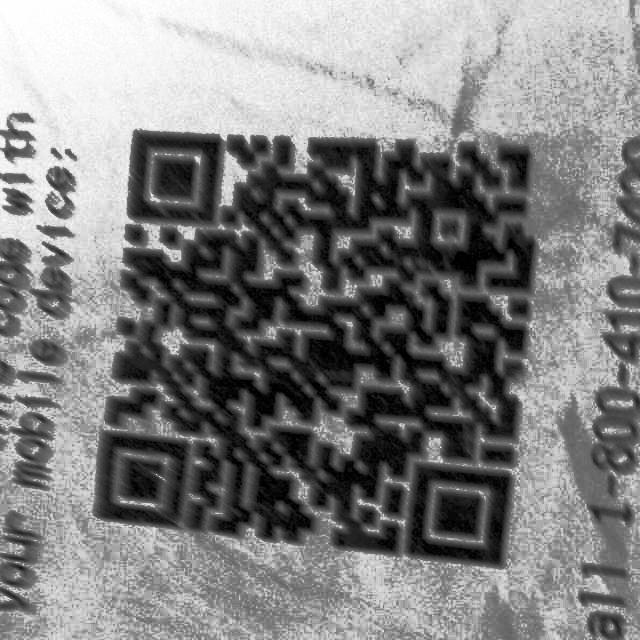qr_code: (82, 105, 539, 581)
